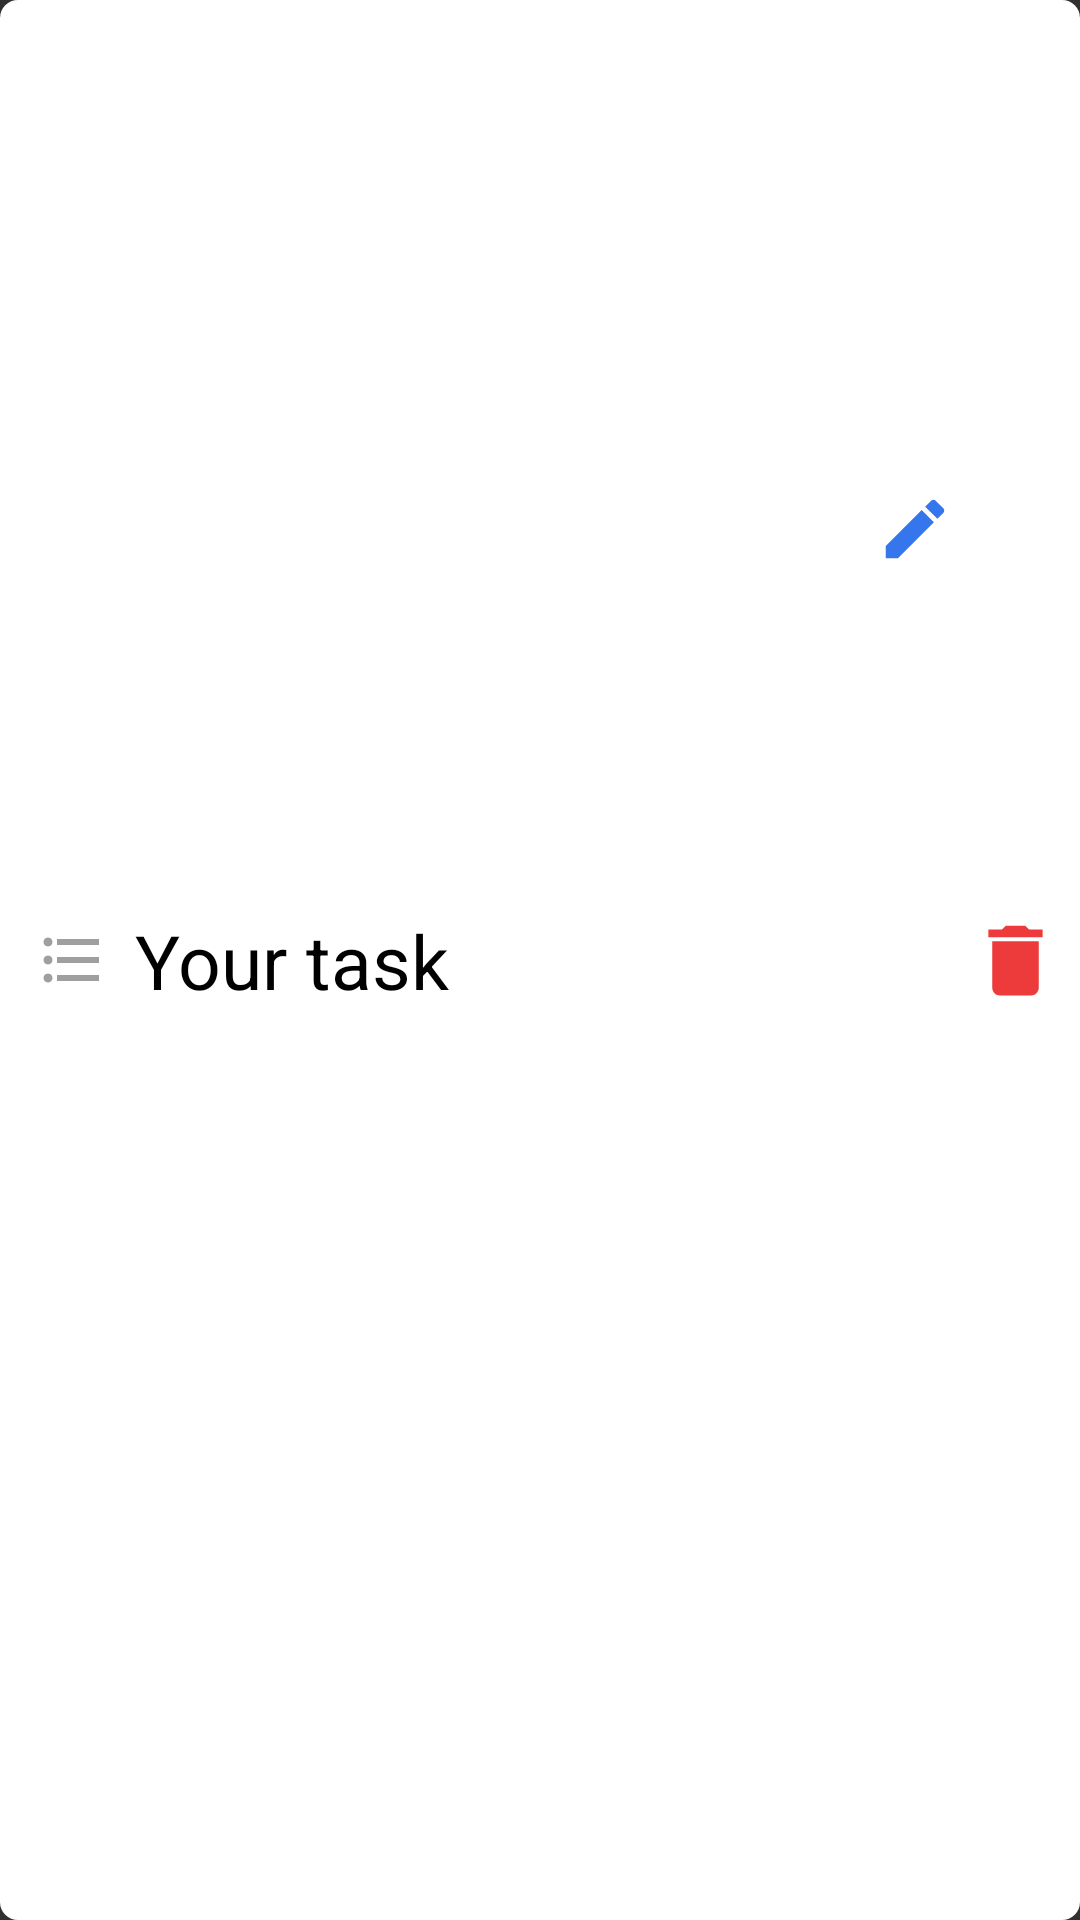

Named icons in this screenshot (1080 x 1920) and their centers, (x=x, y=y):
delete: (x=1015, y=960)
edit: (x=915, y=529)
format list bulleted: (x=71, y=960)
